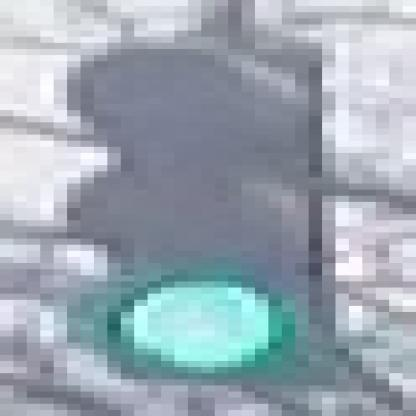Green Light: (65, 36, 335, 388)
